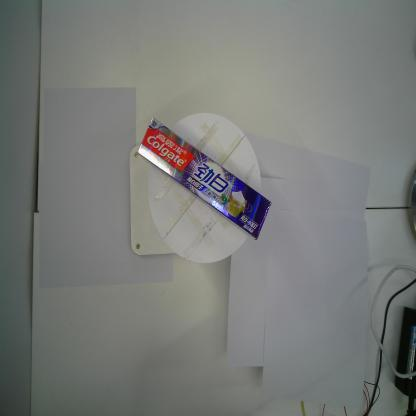Personal Hygiene: (136, 116, 272, 243)
